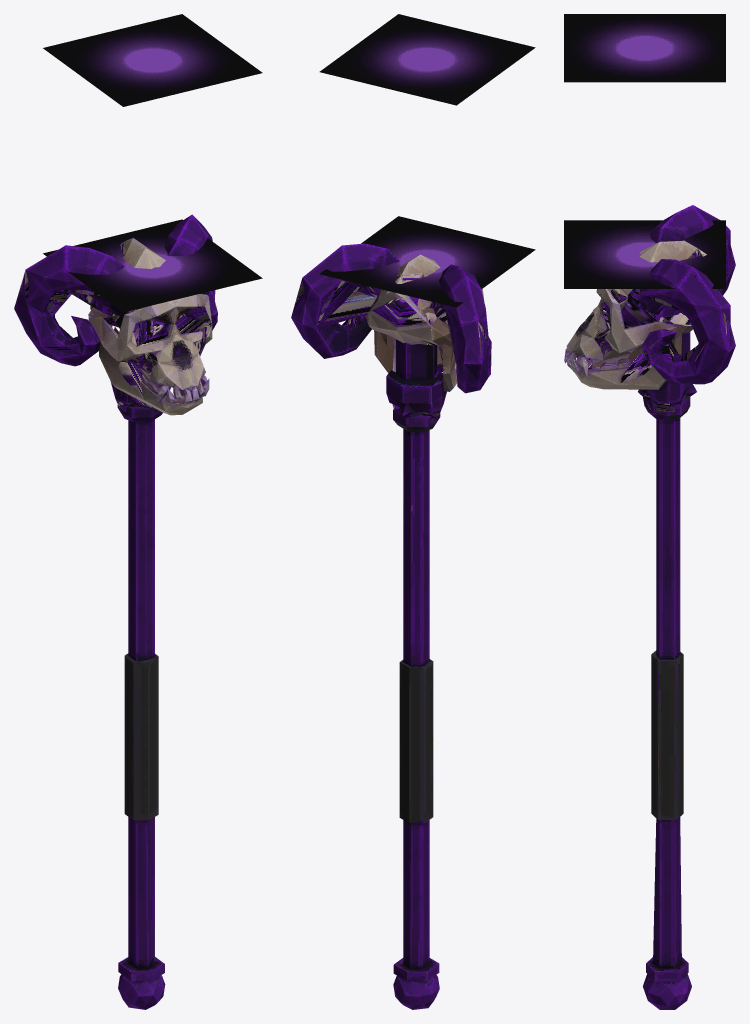
Rendered from item_grimstaff.glb.
3 views of the same model, side by side, from view 1: azimuth 30°, elevation 25°; view 2: azimuth 150°, elevation 25°; view 3: azimuth 270°, elevation 25° (orthographic). The views are drawn at different scales.
Visible parts, largest first — view 1: default, Quad (×2); view 2: default, Quad (×2); view 3: default, Quad (×2).
Part boxes in pixels (bbox=[...]): default: bbox=[14, 214, 217, 1009]; Quad (×2): bbox=[43, 14, 262, 312]; default: bbox=[291, 243, 491, 1009]; Quad (×2): bbox=[319, 14, 535, 307]; default: bbox=[564, 205, 735, 1009]; Quad (×2): bbox=[564, 14, 725, 288].
Size of the model in its own units: 0.2958 by 1.4 by 0.2263.
2 materials, 2 textured.
